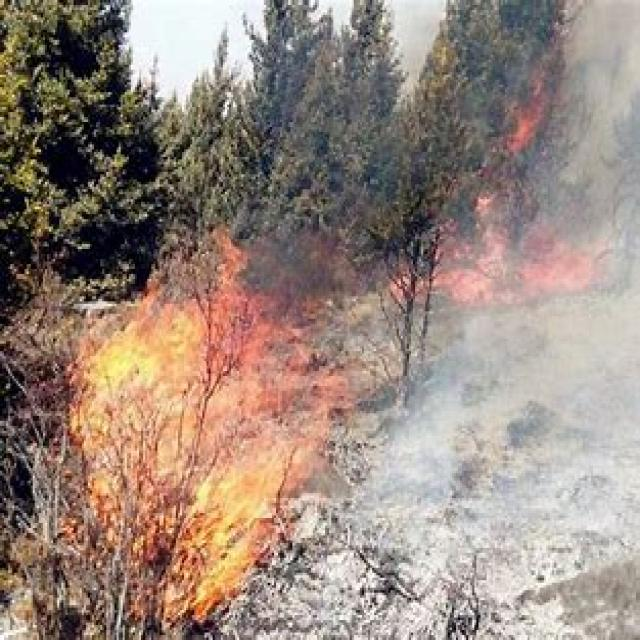fire: (79, 218, 328, 619), (424, 184, 603, 296)
